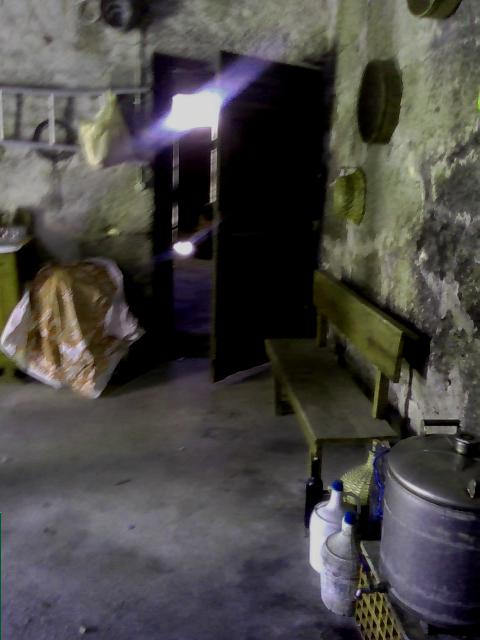semi_door: (149, 47, 331, 382)
